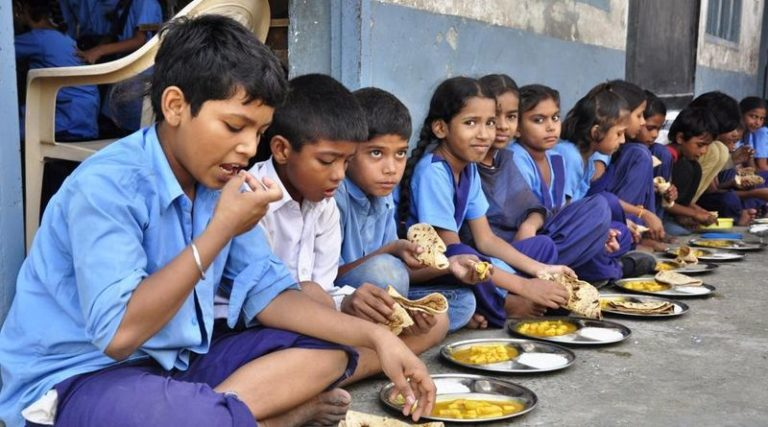student: (139, 30, 273, 193), (269, 70, 355, 210), (347, 80, 412, 203), (431, 78, 499, 167), (471, 61, 522, 153), (514, 71, 564, 157), (571, 89, 628, 159), (602, 71, 649, 142), (696, 86, 748, 148), (670, 100, 713, 164), (636, 77, 667, 149), (736, 92, 768, 133)
